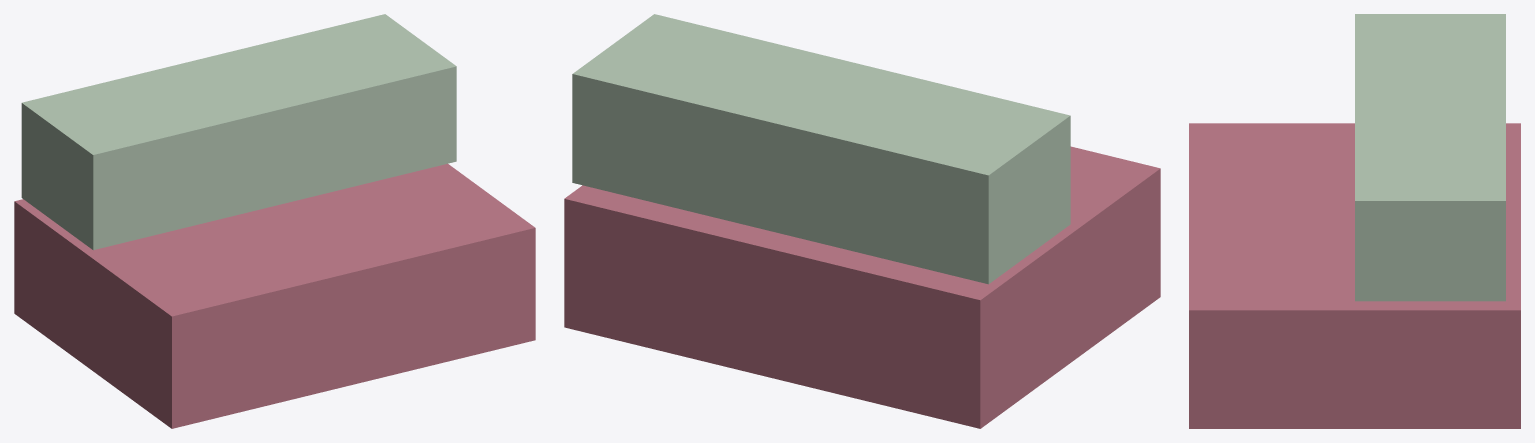
3 renders of one model, left to right at view 1: azimuth 30°, elevation 25°; view 2: azimuth 150°, elevation 25°; view 3: azimuth 270°, elevation 25°, orthographic. The views are drawn at different scales.
Parts seen in each view (by area): view 1: world; view 2: world; view 3: world.
Boxes of the visible parts, left/top/right/bottom form: world: left=14, top=14, right=535, bottom=428; world: left=564, top=14, right=1160, bottom=428; world: left=1189, top=14, right=1520, bottom=428.
Bounding box in the file's own units: 4.4 × 2.5 × 3.3.
